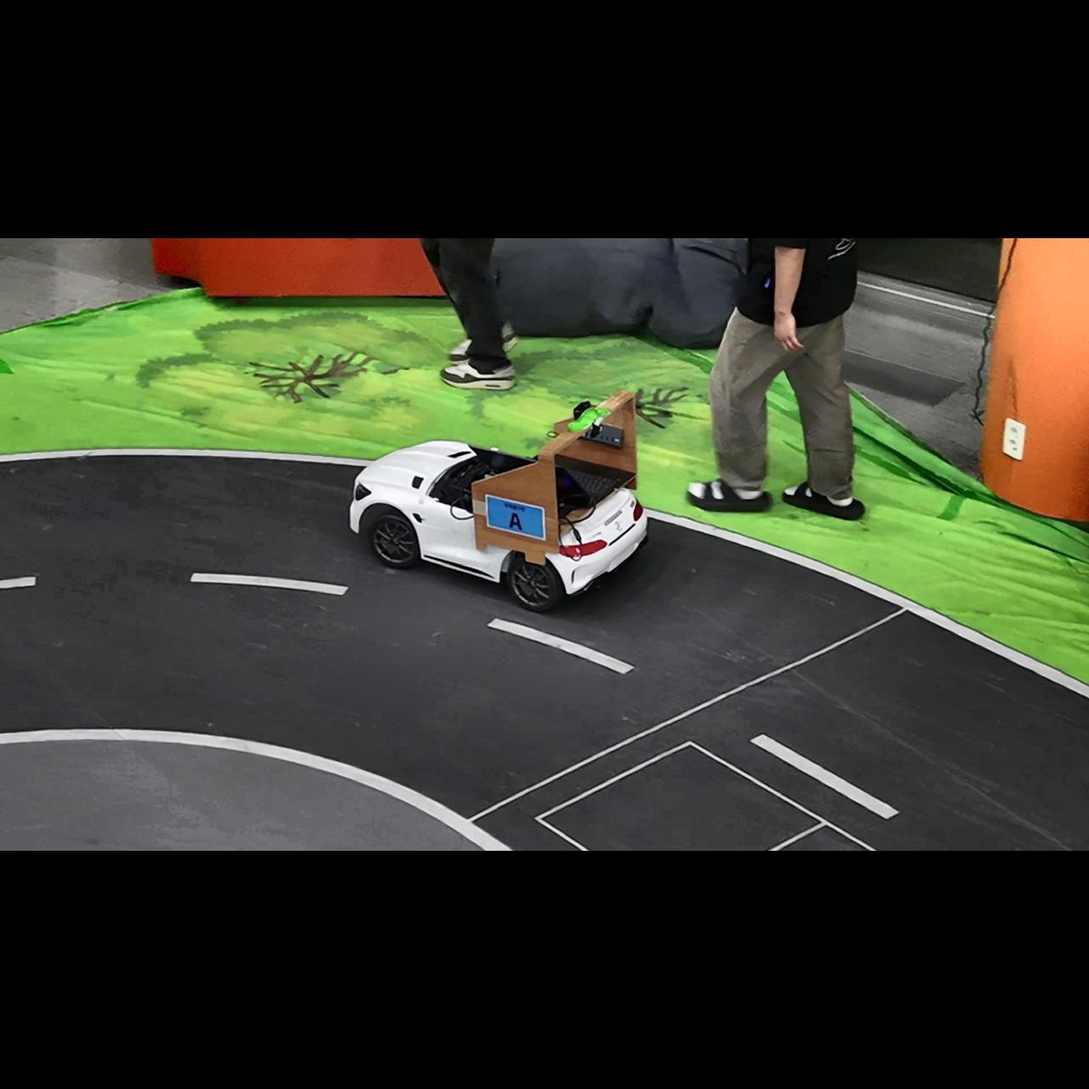broken_line: (750, 734, 900, 819), (487, 618, 635, 674), (189, 573, 349, 596), (0, 576, 36, 589)
